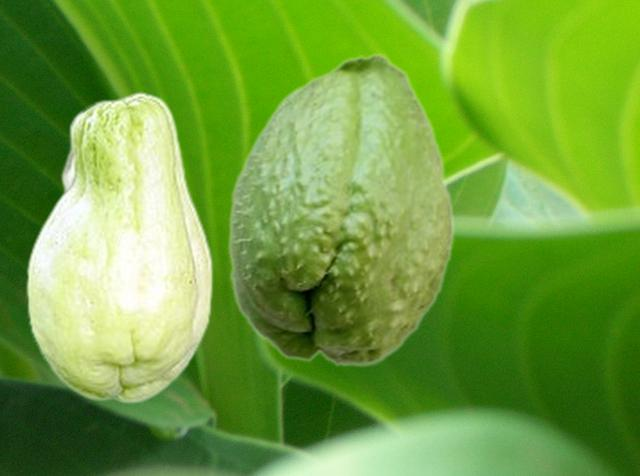sayote: (227, 51, 455, 367), (25, 91, 212, 403)
